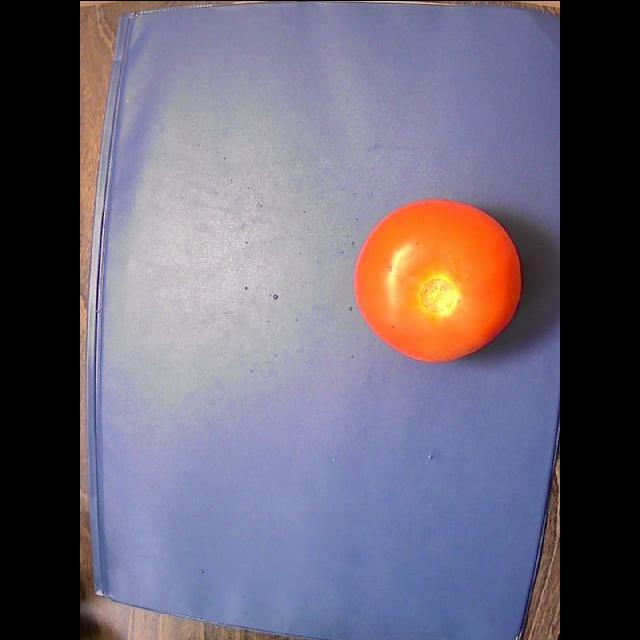tomate: (354, 199, 520, 361)
